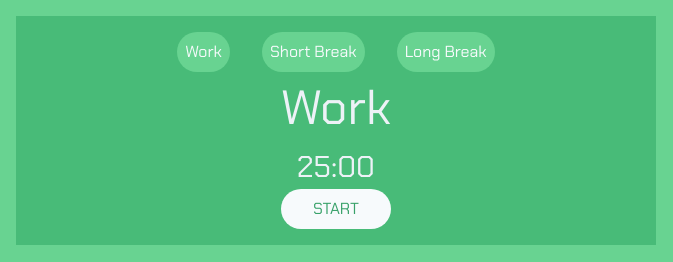
Test case: Timer › can start timer
The width and height of the screenshot is (673, 262).
Click the button with class "timer-button" at (336, 208), box [281,188,391,228]
Wait 1000 ms
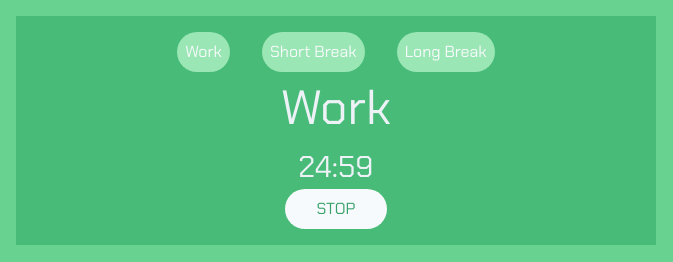
Now the button with class "timer-button" reads "STOP", box [284,188,387,228]
Now the heading with class "time" reads "24:59", box [298,146,373,186]
